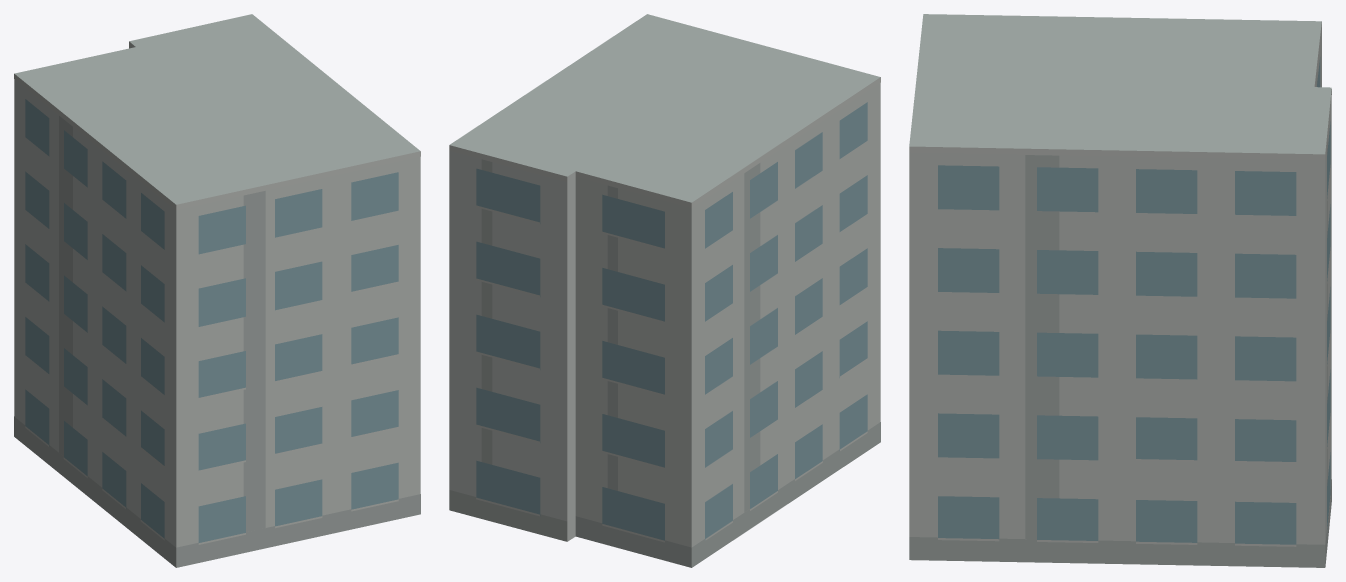
File: survey-upis-32832428.glb
The picture shows the model from 3 angles, left to right: view 1: azimuth 30°, elevation 25°; view 2: azimuth 150°, elevation 25°; view 3: azimuth 270°, elevation 25°; orthographic projection. The views are drawn at different scales.
Parts seen in each view (by area): view 1: survey-upis-32832428.tmp; view 2: survey-upis-32832428.tmp; view 3: survey-upis-32832428.tmp.
Boxes of the visible parts, x1=… form: survey-upis-32832428.tmp: x1=14, y1=14, x2=420, y2=567; survey-upis-32832428.tmp: x1=449, y1=14, x2=880, y2=567; survey-upis-32832428.tmp: x1=909, y1=14, x2=1331, y2=567.
Bounding box in the file's own units: 11.67 × 16.02 × 14.85.
